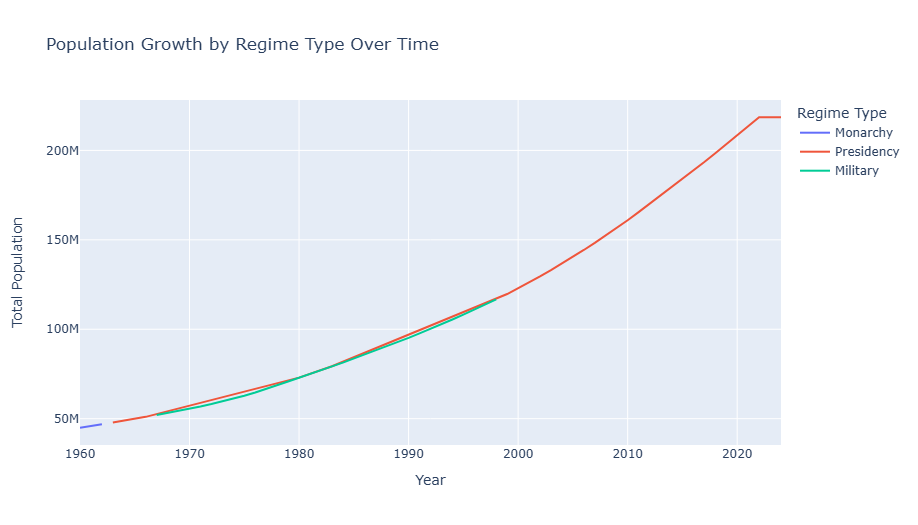

What the dashboard file says about the page in this screenshot:
{"tool":"tableau","page":{"name":"Dashboard 3","canvas":[1000,1000],"units":"permille","ordinal":2},"visuals":[{"type":"worksheet","title":"Sheet 1","mark":"Automatic","rows":["Industry","Services"],"cols":["Time"],"box":[4.8,10,893.5,980]},{"type":"filter","title":"Sheet 1","param":"[federated.1ptxryl0v3hm6k101zg84071covb].[none:Time:qk]","box":[898.4,10,96.8,91.1]},{"type":"legend","title":"Sheet 1","param":"[federated.1ptxryl0v3hm6k101zg84071covb].[:Measure Names]","box":[898.4,101.1,96.8,89.9]}]}

Visuals, with their boxes on the dashboard's canvas, which has no fixed pixel size, in thousandths of its width and height (x1, y1, x2, y2). These are canvas units, not pixel positions in the 918x525 screenshot, which may show the page scaled, cropped or inside an application window:
"Sheet 1" worksheet: {"left": 5, "top": 10, "right": 898, "bottom": 990}
"Sheet 1" filter: {"left": 898, "top": 10, "right": 995, "bottom": 101}
"Sheet 1" legend: {"left": 898, "top": 101, "right": 995, "bottom": 191}
